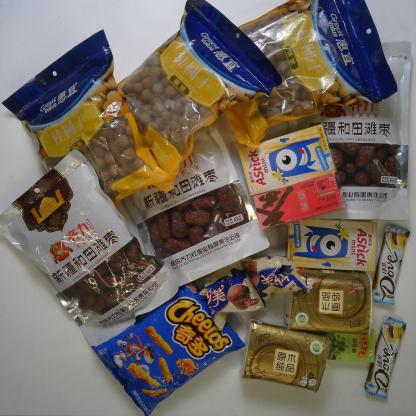Candy: (322, 327, 377, 364)
Chocolate: (362, 315, 408, 402), (369, 223, 412, 306)
Dessert: (235, 124, 339, 198), (196, 257, 268, 333), (284, 216, 378, 274), (238, 250, 311, 305)
Dried Food: (0, 145, 182, 353), (0, 28, 176, 210), (114, 0, 283, 184), (223, 0, 400, 153), (118, 120, 273, 292), (284, 34, 412, 223)
Instant Drink: (251, 172, 347, 231)
Puffed Food: (89, 278, 249, 416)
Tissue: (239, 317, 330, 395), (284, 266, 374, 337)
